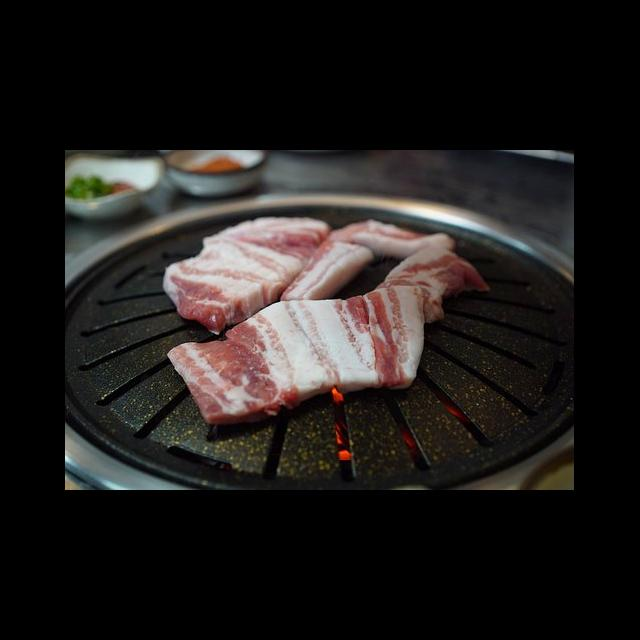pork: (172, 296, 416, 420), (166, 219, 303, 326)
